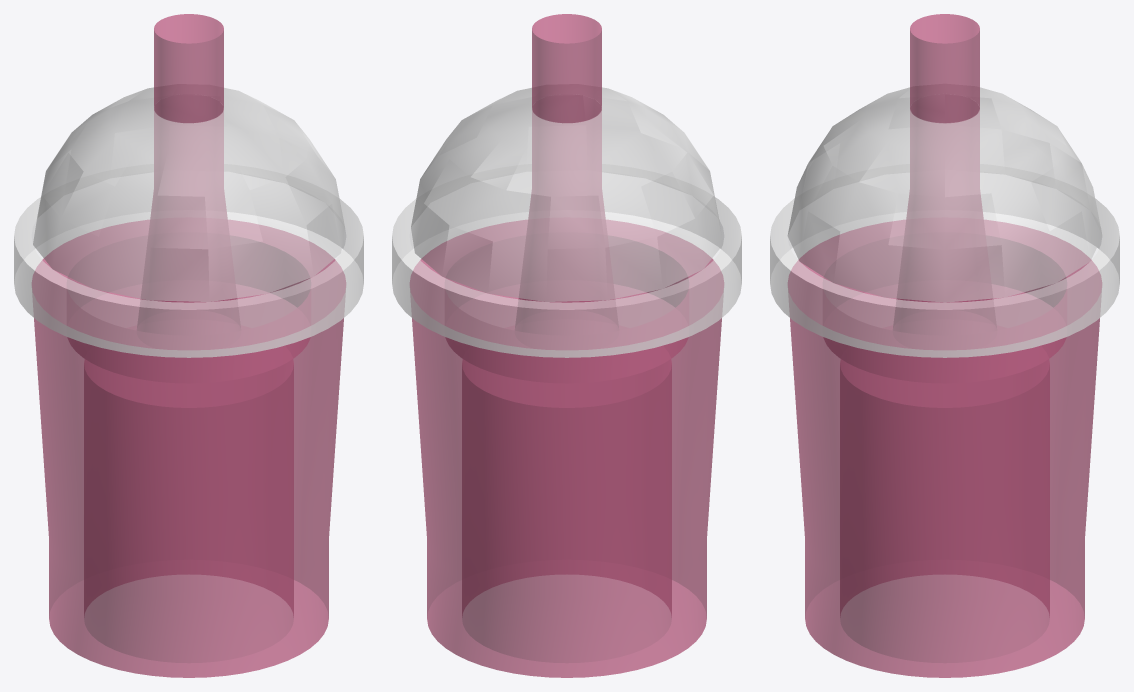
File: BrickShake.dae
3 renders of one model, left to right at view 1: azimuth 30°, elevation 25°; view 2: azimuth 150°, elevation 25°; view 3: azimuth 270°, elevation 25°, orthographic.
Visible parts, largest first — view 1: 20398c01_dot_dat; view 2: 20398c01_dot_dat; view 3: 20398c01_dot_dat.
Part boxes in pixels (x1,y1,x2,y2): 20398c01_dot_dat: (14, 14, 363, 677); 20398c01_dot_dat: (392, 14, 741, 677); 20398c01_dot_dat: (770, 14, 1119, 677).
Size of the model in its own units: 19.75 by 36.75 by 19.75.
